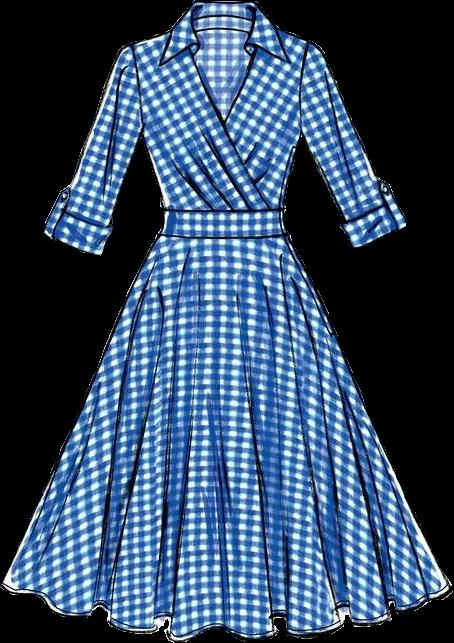Bodice: (134, 1, 309, 240)
Hemline: (0, 582, 453, 642)
Neckline: (188, 2, 259, 125)
Skirt: (1, 234, 452, 641)
Sleeve: (302, 40, 406, 247), (44, 43, 142, 254)
Sleeveline: (296, 41, 312, 135), (130, 43, 146, 127)
Waistline: (157, 230, 287, 245), (163, 204, 281, 217)
